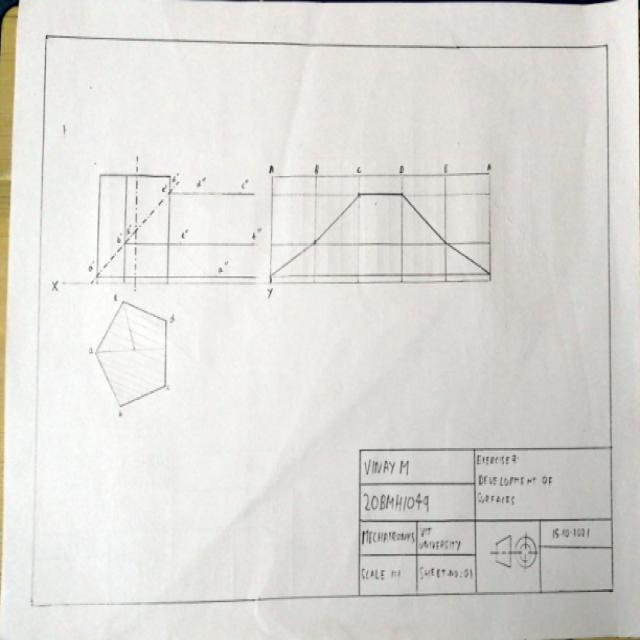Drawings: (268, 147, 502, 306), (46, 143, 263, 292), (81, 292, 184, 426)
